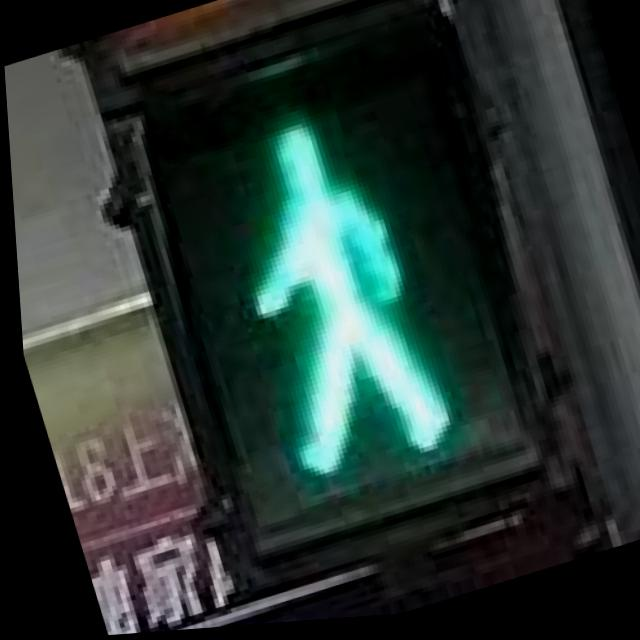green_light: (111, 42, 546, 555)
